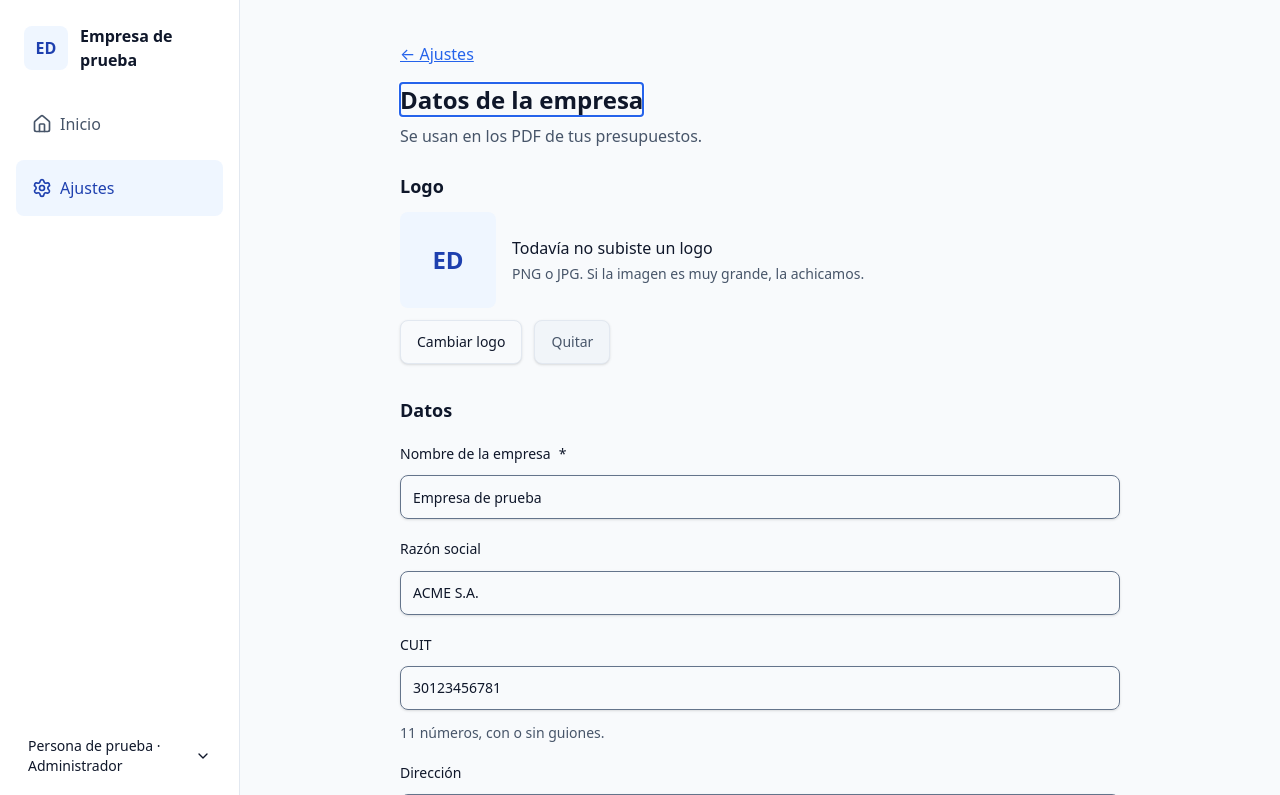
Test: CompanyPage unsaved changes and expired sessions › does not ask when nothing changed
Click the link "← Ajustes". click: (437, 54)
box: x1=400 y1=43 x2=474 y2=65
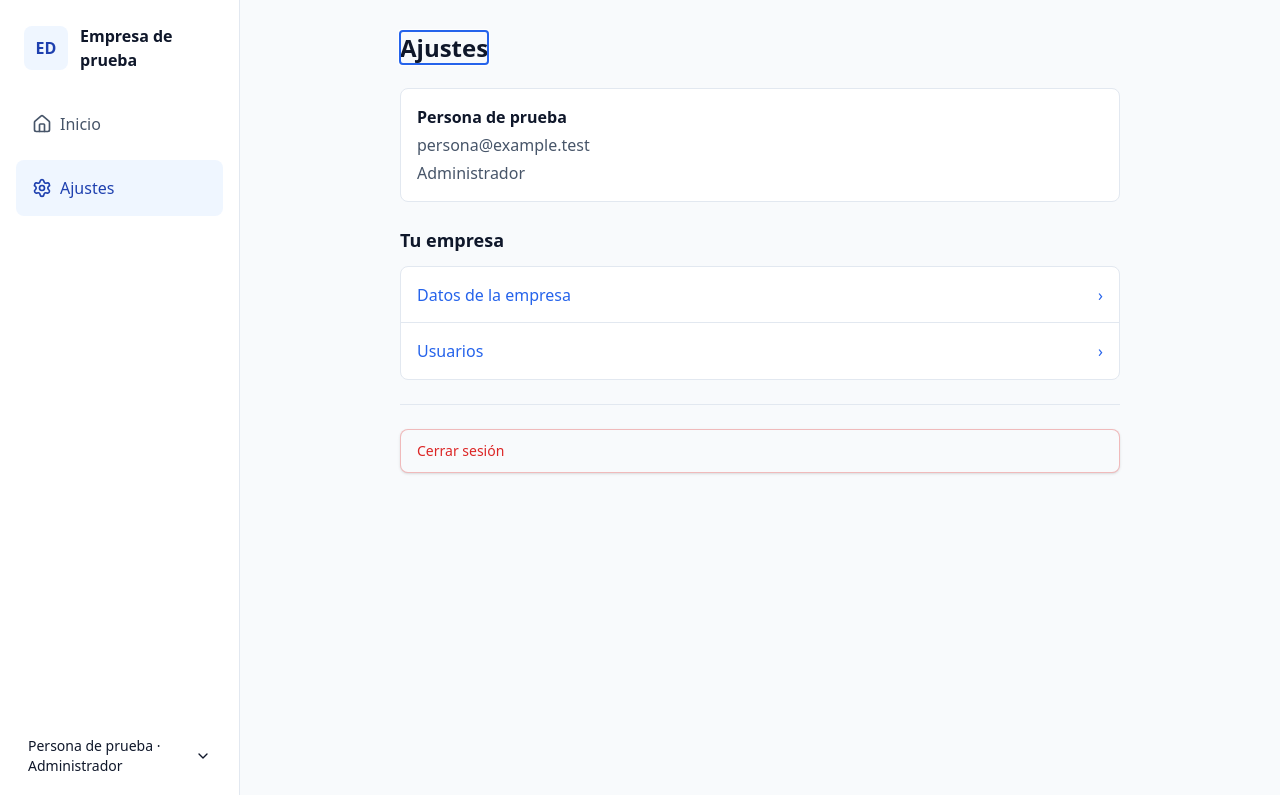
Check: the heading "Ajustes" is shown, box x1=400 y1=32 x2=488 y2=64
